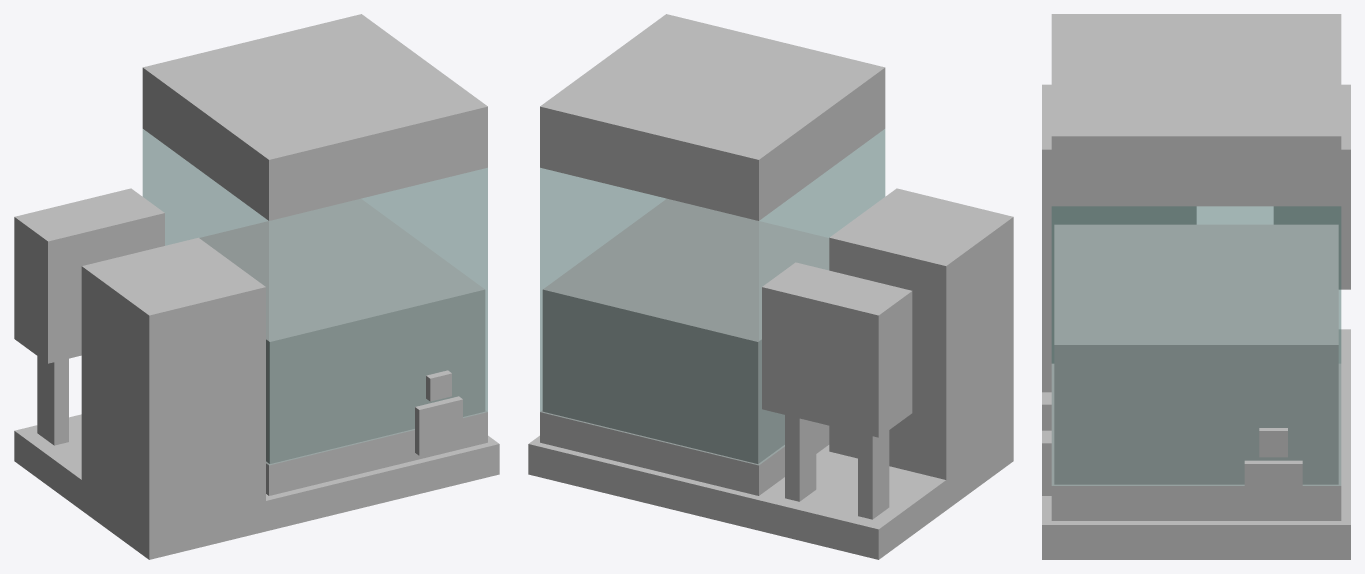
File: arthropod_cultivation_chamber.obj
3 views of the same model, side by side, from view 1: azimuth 30°, elevation 25°; view 2: azimuth 150°, elevation 25°; view 3: azimuth 270°, elevation 25° (orthographic). The views are drawn at different scales.
Visible parts, largest first — view 1: Vessel_middle_translucent, Vessel_upper_steel, Culture_liquid_half_full, Power_box, Foundation_3x2_treated_wood_and_metal_trim, Redstone_interface, Power_box_bottom, Vessel_lower_steel, Fluid_output_orange, Redstone_supports; view 2: Vessel_middle_translucent, Culture_liquid_half_full, Vessel_upper_steel, Power_box, Redstone_interface, Foundation_3x2_treated_wood_and_metal_trim, Vessel_lower_steel, Redstone_supports, Power_box_bottom; view 3: Vessel_middle_translucent, Culture_liquid_half_full, Vessel_upper_steel, Foundation_3x2_treated_wood_and_metal_trim, Vessel_lower_steel, Power_box, Fluid_input_blue, Redstone_interface, Fluid_output_orange.
Boxes of the visible parts, x1,y1,x2,y2 form: Vessel_middle_translucent: (142,129,487,464); Vessel_upper_steel: (142,14,487,220); Culture_liquid_half_full: (199,198,485,463); Power_box: (81,237,265,497); Foundation_3x2_treated_wood_and_metal_trim: (14,414,499,559); Redstone_interface: (14,188,164,363); Power_box_bottom: (81,448,265,529); Vessel_lower_steel: (266,410,487,495); Fluid_output_orange: (415,370,462,455); Redstone_supports: (37,356,68,445); Vessel_middle_translucent: (540,129,885,464); Culture_liquid_half_full: (542,198,829,463); Vessel_upper_steel: (540,14,885,220); Power_box: (829,188,1013,449); Redstone_interface: (762,262,912,437); Foundation_3x2_treated_wood_and_metal_trim: (528,431,1013,559); Vessel_lower_steel: (540,410,829,495); Redstone_supports: (785,415,889,519); Power_box_bottom: (829,400,1013,479); Vessel_middle_translucent: (1051,206,1341,485); Culture_liquid_half_full: (1054,224,1338,484); Vessel_upper_steel: (1051,14,1341,206); Foundation_3x2_treated_wood_and_metal_trim: (1042,329,1350,559); Vessel_lower_steel: (1051,363,1341,520); Power_box: (1042,84,1196,359); Fluid_input_blue: (1244,428,1302,516); Redstone_interface: (1273,84,1350,289); Fluid_output_orange: (1042,392,1051,495).
Bounding box in the file's own units: 3 × 3 × 2.
